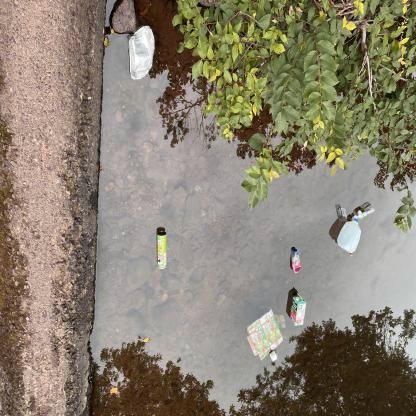Metal: (123, 23, 160, 83), (154, 227, 171, 276)
Plastic: (333, 214, 362, 254), (286, 246, 306, 276), (352, 202, 375, 221)
